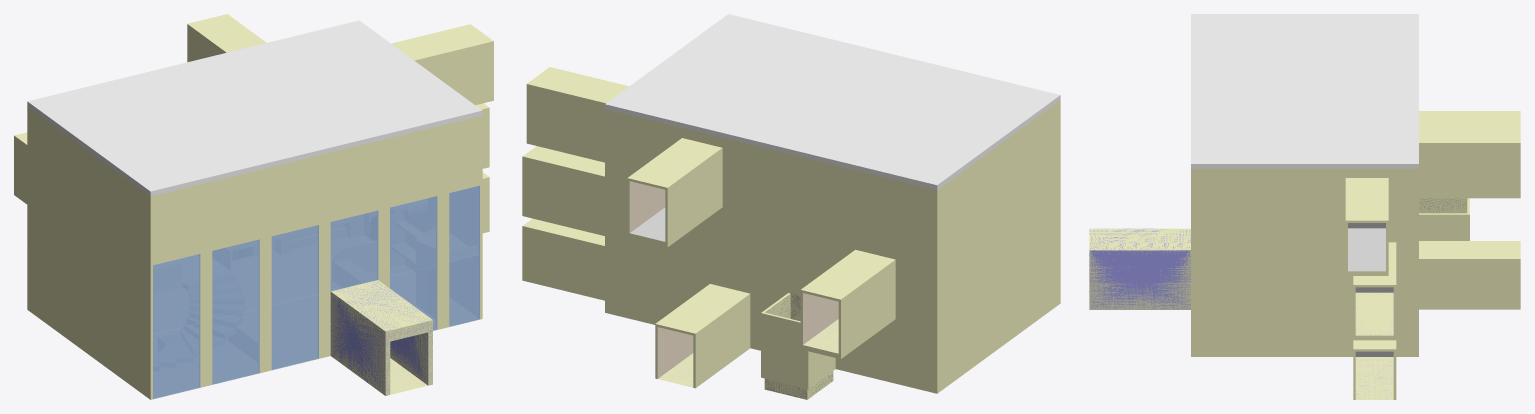
File: edificioInterior.fbx
The picture shows the model from 3 angles, left to right: view 1: azimuth 30°, elevation 25°; view 2: azimuth 150°, elevation 25°; view 3: azimuth 270°, elevation 25°; orthographic projection. The views are drawn at different scales.
Visible parts, largest first — view 1: Techo, Planta02, Planta01, PlantaBaja.001, PlantaBaja.007, Ventana.008, Ventana.007, Ventana.006, Ventana.009, Ventana.005, Ventana, Ventana.002 (+13 smaller); view 2: Techo, Planta02, Planta01, PlantaBaja.001, PlantaBaja.012, Planta02.004, PlantaBaja.002, Planta01.006, PlantaBaja.013, Planta02.005, Planta01.002; view 3: Techo, Planta02, PlantaBaja.001, Planta01, PlantaBaja.007, Planta01.002, PlantaBaja.013, Planta02.005, PlantaBaja.012.
Boxes of the visible parts, x1,y1,x2,y2 form: Techo: [27, 20, 482, 196]; Planta02: [27, 14, 493, 265]; Planta01: [14, 103, 489, 335]; PlantaBaja.001: [27, 172, 489, 399]; PlantaBaja.007: [330, 280, 432, 395]; Ventana.008: [330, 210, 378, 291]; Ventana.007: [271, 225, 318, 305]; Ventana.006: [212, 239, 259, 320]; Ventana.009: [390, 196, 437, 276]; Ventana.005: [153, 254, 200, 334]; Ventana: [153, 323, 200, 399]; Ventana.002: [271, 294, 318, 370]; Techo: [605, 14, 1060, 189]; Planta02: [526, 67, 1060, 259]; Planta01: [522, 146, 1060, 359]; PlantaBaja.001: [522, 218, 1060, 393]; PlantaBaja.012: [764, 293, 833, 399]; Planta02.004: [629, 181, 665, 232]; PlantaBaja.002: [657, 327, 693, 378]; Planta01.006: [803, 293, 838, 344]; PlantaBaja.013: [658, 353, 693, 387]; Planta02.005: [630, 207, 665, 241]; Planta01.002: [803, 319, 838, 353]; Techo: [1191, 14, 1418, 168]; Planta02: [1191, 124, 1520, 275]; PlantaBaja.001: [1191, 198, 1520, 399]; Planta01: [1191, 111, 1520, 340]; PlantaBaja.007: [1089, 228, 1190, 309]; Planta01.002: [1355, 292, 1393, 335]; PlantaBaja.013: [1355, 357, 1393, 399]; Planta02.005: [1348, 228, 1385, 271]; PlantaBaja.012: [1419, 198, 1467, 213].
Size of the model in its own units: 1800 by 890 by 1700.
